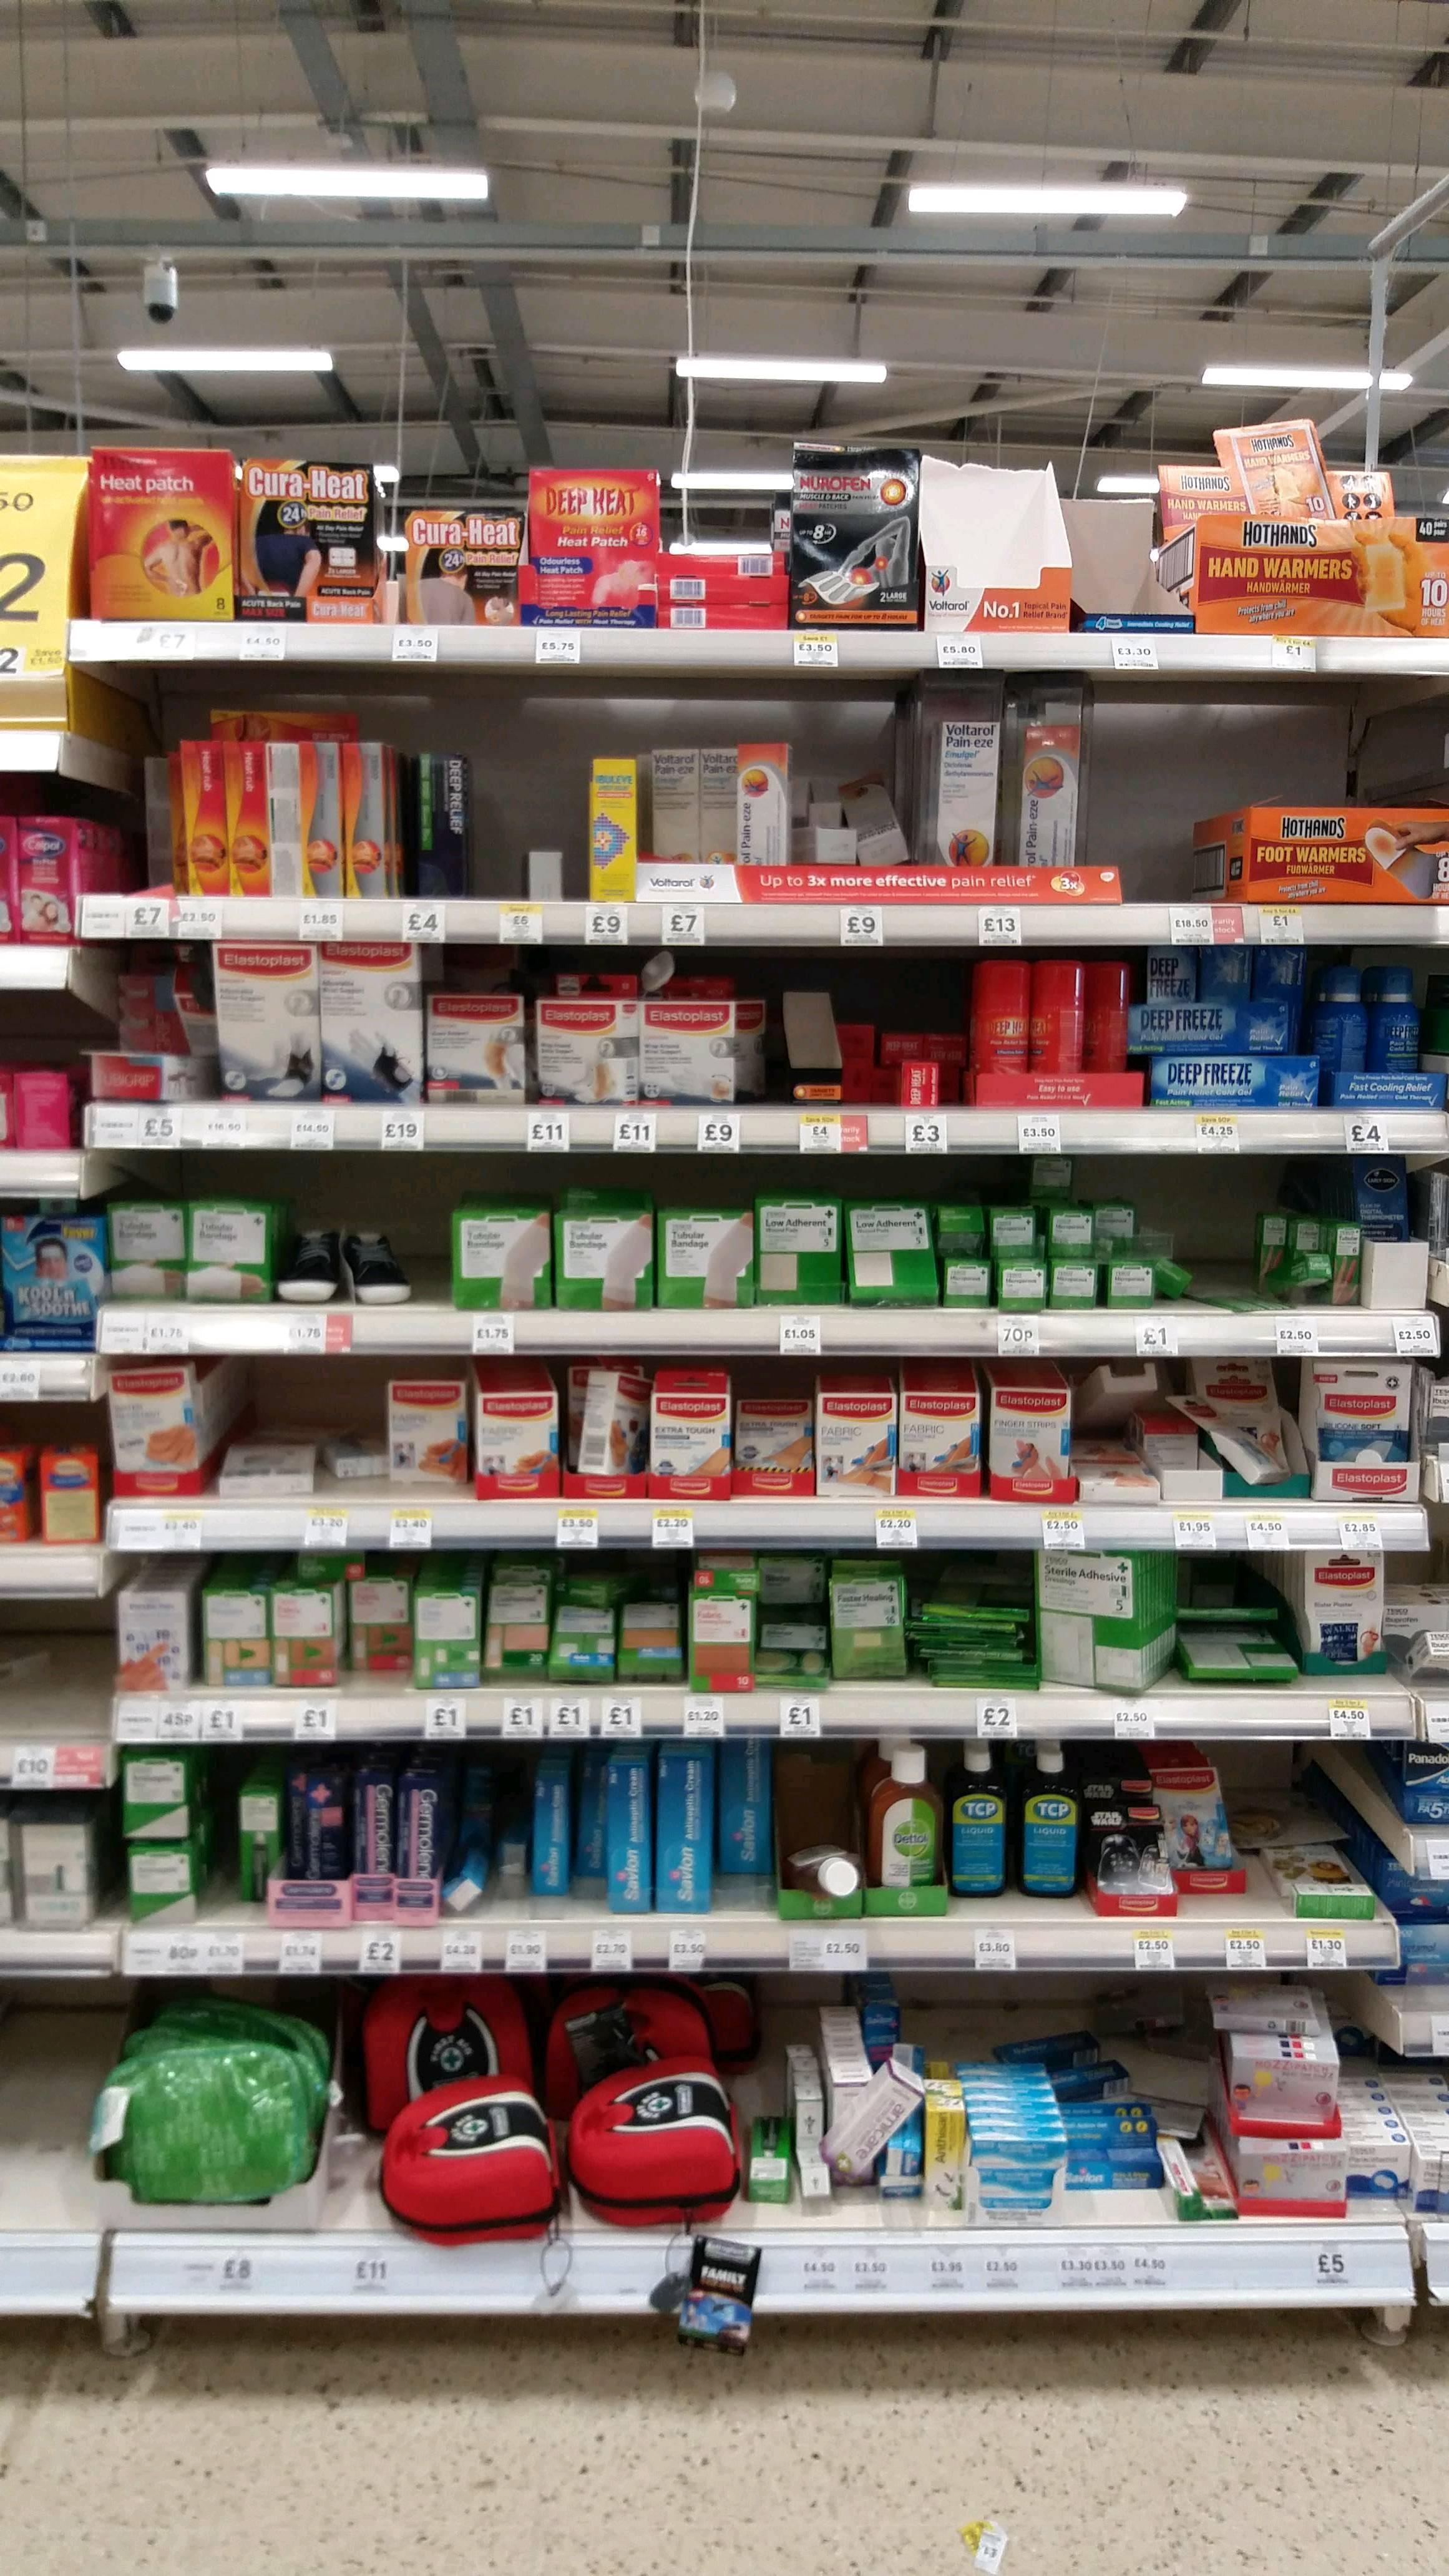misalignment: (1021, 1537, 1164, 1688), (904, 1582, 1033, 1691), (1166, 1580, 1297, 1686), (791, 761, 906, 870), (846, 1007, 968, 1108), (1182, 1384, 1290, 1493), (1258, 1838, 1382, 1928), (655, 545, 791, 626), (564, 1361, 648, 1470), (88, 1030, 203, 1104), (782, 1821, 863, 1916), (1251, 1214, 1332, 1306), (837, 2068, 906, 2174), (1203, 1974, 1327, 2033), (216, 1428, 313, 1493), (1081, 1361, 1150, 1438), (317, 1417, 391, 1484), (1152, 1235, 1217, 1306), (442, 1829, 490, 1914), (789, 2130, 833, 2206)
